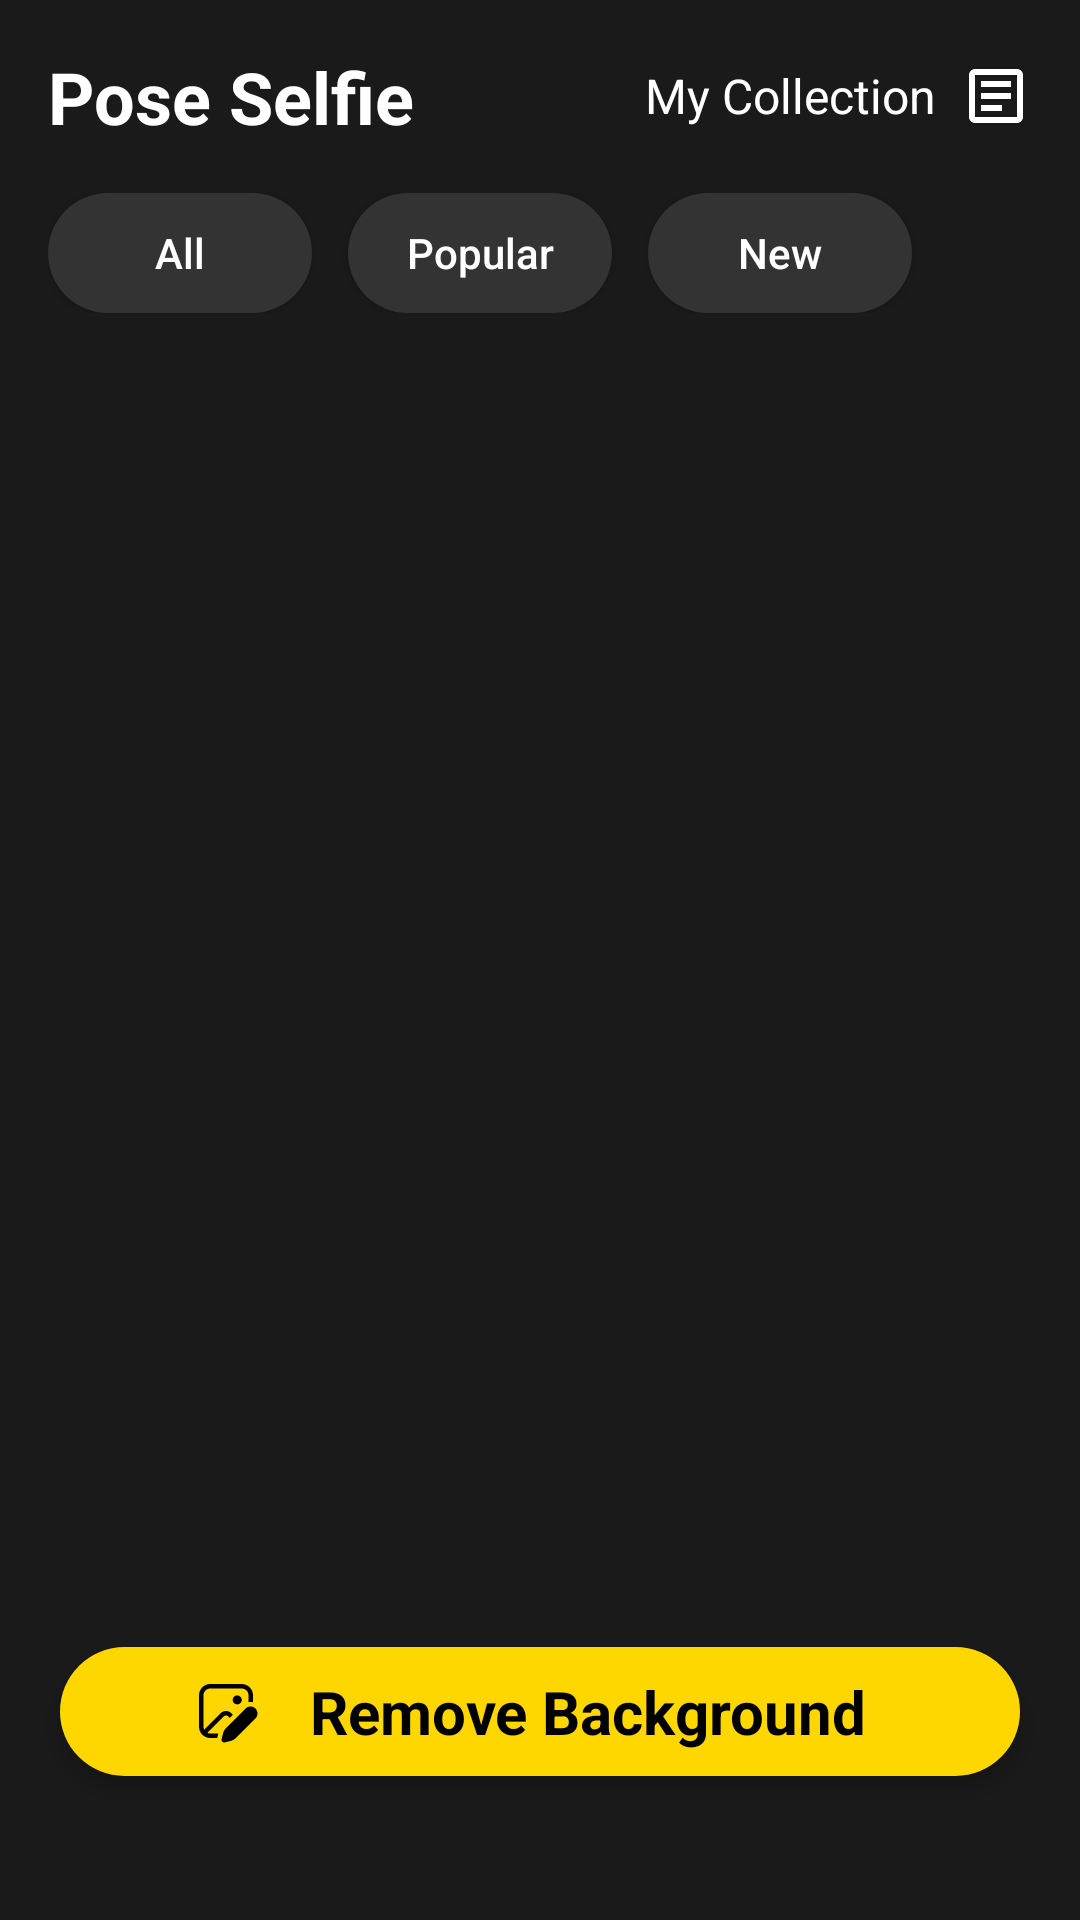

Icon click points for this 1080*1920 phone screenshot, format (x=x, y=y):
editor: (x=228, y=1713)
